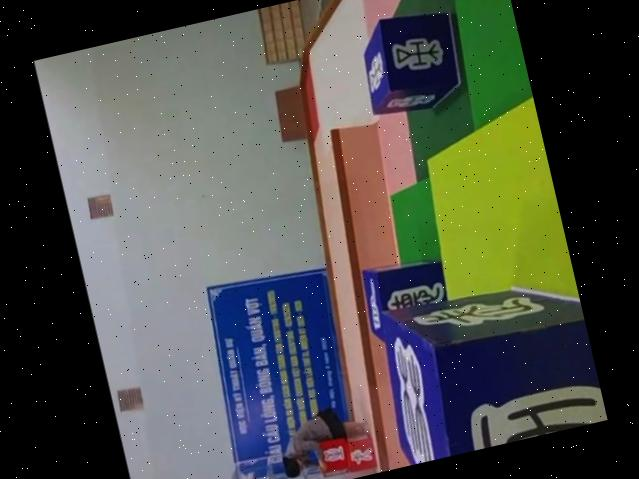R2 Fake Blue: (366, 263, 607, 466), (357, 251, 460, 348)
R2 Real Blue: (352, 0, 472, 117)
